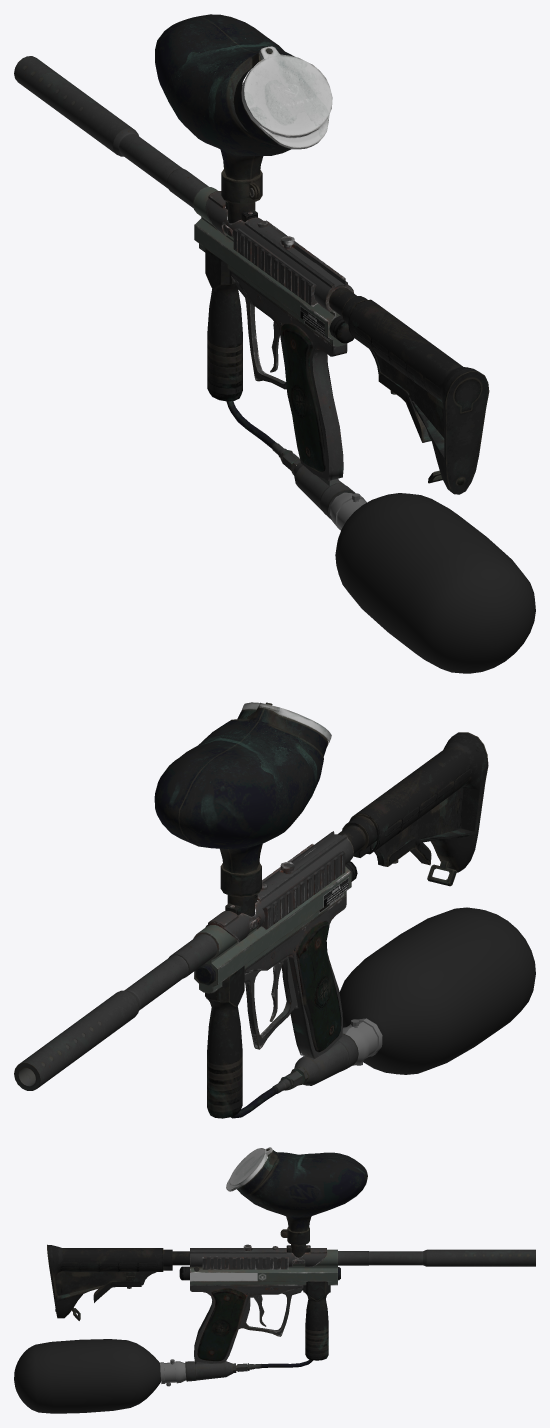
File: pistol.glb
3 renders of one model, top to bottom at view 1: azimuth 30°, elevation 25°; view 2: azimuth 150°, elevation 25°; view 3: azimuth 270°, elevation 25°, orthographic. The views are drawn at different scales.
Visible parts, largest first — view 1: Decal logo, real gas tank, gas Cylinder.; view 2: Decal logo, real gas tank, gas Cylinder.; view 3: Decal logo, real gas tank, gas Cylinder..
Boxes of the visible parts, x1,y1,x2,y2 form: Decal logo: (14, 14, 489, 519); real gas tank: (335, 493, 535, 673); gas Cylinder.: (330, 492, 366, 530); Decal logo: (14, 702, 488, 1118); real gas tank: (339, 907, 535, 1074); gas Cylinder.: (342, 1018, 382, 1065); Decal logo: (47, 1147, 535, 1381); real gas tank: (14, 1339, 160, 1413); gas Cylinder.: (160, 1361, 186, 1383).
Bounding box in the file's own units: 0.1204 × 0.4405 × 0.797.
4 materials, 1 textured.
